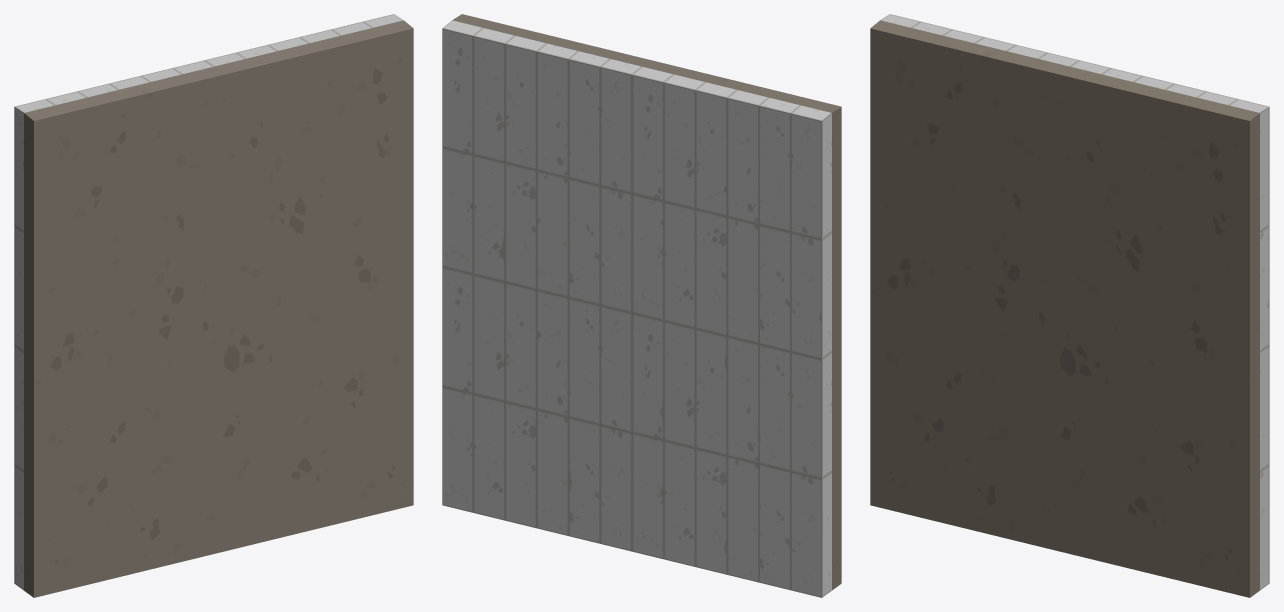
Rendered from SM_Bld_Base_Wall_01_756.obj.
The picture shows the model from 3 angles, left to right: view 1: azimuth 30°, elevation 25°; view 2: azimuth 150°, elevation 25°; view 3: azimuth 330°, elevation 25°; orthographic projection.
Parts seen in each view (by area): view 1: SM_Bld_Base_Wall_01_1, SM_Bld_Base_Wall_01_0; view 2: SM_Bld_Base_Wall_01_0, SM_Bld_Base_Wall_01_1; view 3: SM_Bld_Base_Wall_01_1, SM_Bld_Base_Wall_01_0.
Boxes of the visible parts, x1=… form: SM_Bld_Base_Wall_01_1: x1=24, y1=20, x2=413, y2=597; SM_Bld_Base_Wall_01_0: x1=14, y1=14, x2=403, y2=590; SM_Bld_Base_Wall_01_0: x1=442, y1=20, x2=831, y2=597; SM_Bld_Base_Wall_01_1: x1=452, y1=14, x2=841, y2=590; SM_Bld_Base_Wall_01_1: x1=870, y1=20, x2=1259, y2=597; SM_Bld_Base_Wall_01_0: x1=880, y1=14, x2=1269, y2=590.
Size of the model in its own units: 2.5 by 3.01 by 0.225.
Materials: 2 (2 with a texture image).
